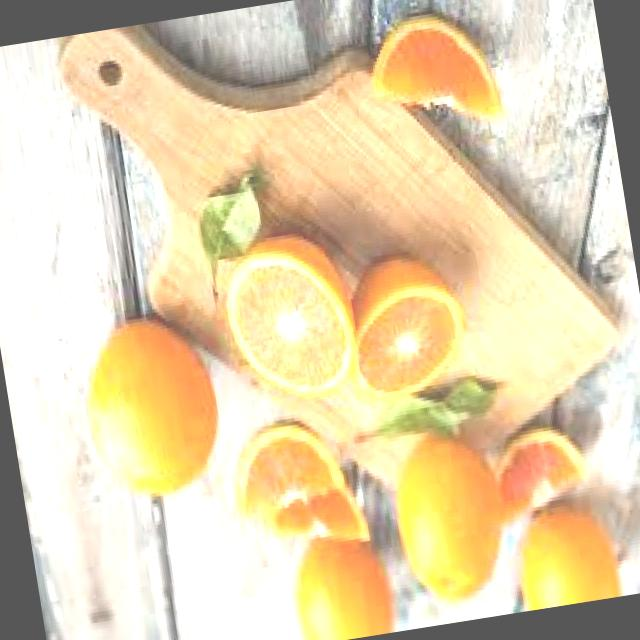Orange: (75, 308, 230, 508), (216, 227, 366, 412), (384, 430, 514, 612), (337, 248, 476, 408), (508, 499, 624, 612), (284, 532, 399, 640)
